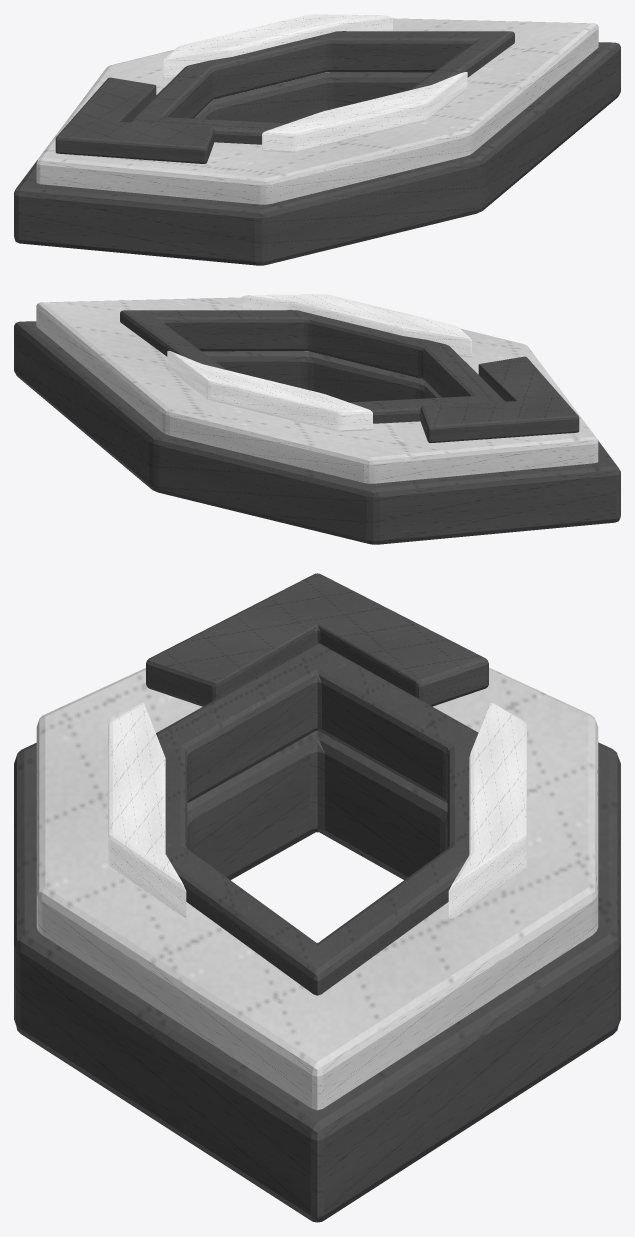
The picture shows the model from 3 angles, top to bottom: view 1: azimuth 30°, elevation 25°; view 2: azimuth 150°, elevation 25°; view 3: azimuth 270°, elevation 25°; orthographic projection. The views are drawn at different scales.
Parts seen in each view (by area): view 1: ReboundDiamond.Root.OpenRing, ReboundDiamond.ReflectorRing, ReboundDiamond.InnerTunnelRim, ReboundDiamond.RearChevron, ReboundDiamond.SouthEnergy, ReboundDiamond.NorthEnergy; view 2: ReboundDiamond.Root.OpenRing, ReboundDiamond.ReflectorRing, ReboundDiamond.InnerTunnelRim, ReboundDiamond.RearChevron, ReboundDiamond.NorthEnergy, ReboundDiamond.SouthEnergy; view 3: ReboundDiamond.Root.OpenRing, ReboundDiamond.ReflectorRing, ReboundDiamond.InnerTunnelRim, ReboundDiamond.RearChevron, ReboundDiamond.NorthEnergy, ReboundDiamond.SouthEnergy.
Boxes of the visible parts, x1=… form: ReboundDiamond.Root.OpenRing: x1=14, y1=42, x2=620, y2=265; ReboundDiamond.ReflectorRing: x1=36, y1=18, x2=598, y2=204; ReboundDiamond.InnerTunnelRim: x1=129, y1=31, x2=514, y2=144; ReboundDiamond.RearChevron: x1=55, y1=77, x2=214, y2=163; ReboundDiamond.SouthEnergy: x1=262, y1=72, x2=467, y2=152; ReboundDiamond.NorthEnergy: x1=163, y1=14, x2=392, y2=78; ReboundDiamond.Root.OpenRing: x1=14, y1=321, x2=620, y2=544; ReboundDiamond.ReflectorRing: x1=36, y1=297, x2=598, y2=483; ReboundDiamond.InnerTunnelRim: x1=120, y1=310, x2=504, y2=423; ReboundDiamond.RearChevron: x1=420, y1=356, x2=579, y2=442; ReboundDiamond.NorthEnergy: x1=167, y1=351, x2=372, y2=431; ReboundDiamond.SouthEnergy: x1=242, y1=294, x2=471, y2=357; ReboundDiamond.Root.OpenRing: x1=14, y1=730, x2=620, y2=1222; ReboundDiamond.ReflectorRing: x1=36, y1=667, x2=598, y2=1110; ReboundDiamond.InnerTunnelRim: x1=156, y1=643, x2=478, y2=995; ReboundDiamond.RearChevron: x1=146, y1=573, x2=488, y2=706; ReboundDiamond.NorthEnergy: x1=448, y1=703, x2=526, y2=919; ReboundDiamond.SouthEnergy: x1=108, y1=703, x2=186, y2=918.
Bounding box in the file's own units: 0.9913 × 0.158 × 0.4884.
Materials: 3 (3 with a texture image).
